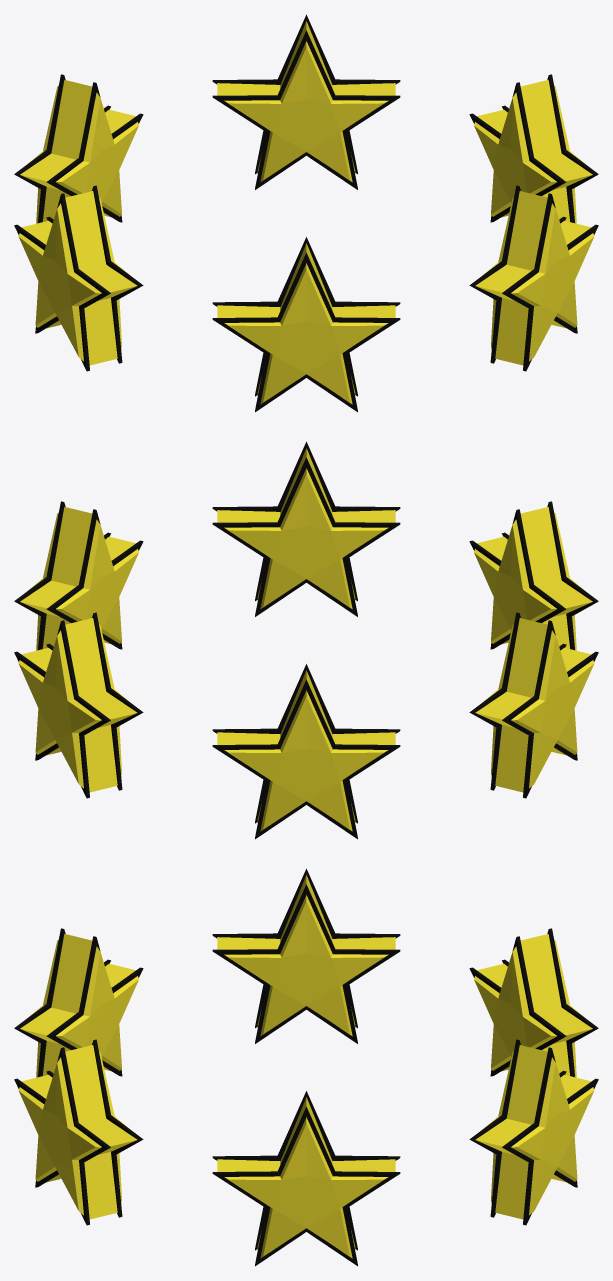
The model's file is daze_status_effect.glb.
The picture shows the model from 3 angles, top to bottom: view 1: azimuth 30°, elevation 25°; view 2: azimuth 150°, elevation 25°; view 3: azimuth 270°, elevation 25°; orthographic projection.
Visible parts, largest first — view 1: Star.001; view 2: Star.001; view 3: Star.001.
Part boxes in pixels (x1=…): Star.001: x1=14, y1=14, x2=598, y2=412; Star.001: x1=14, y1=441, x2=598, y2=839; Star.001: x1=14, y1=868, x2=598, y2=1266.
Bounding box in the file's own units: 0.9018 × 0.2719 × 0.9091.
1 material, 1 textured.
